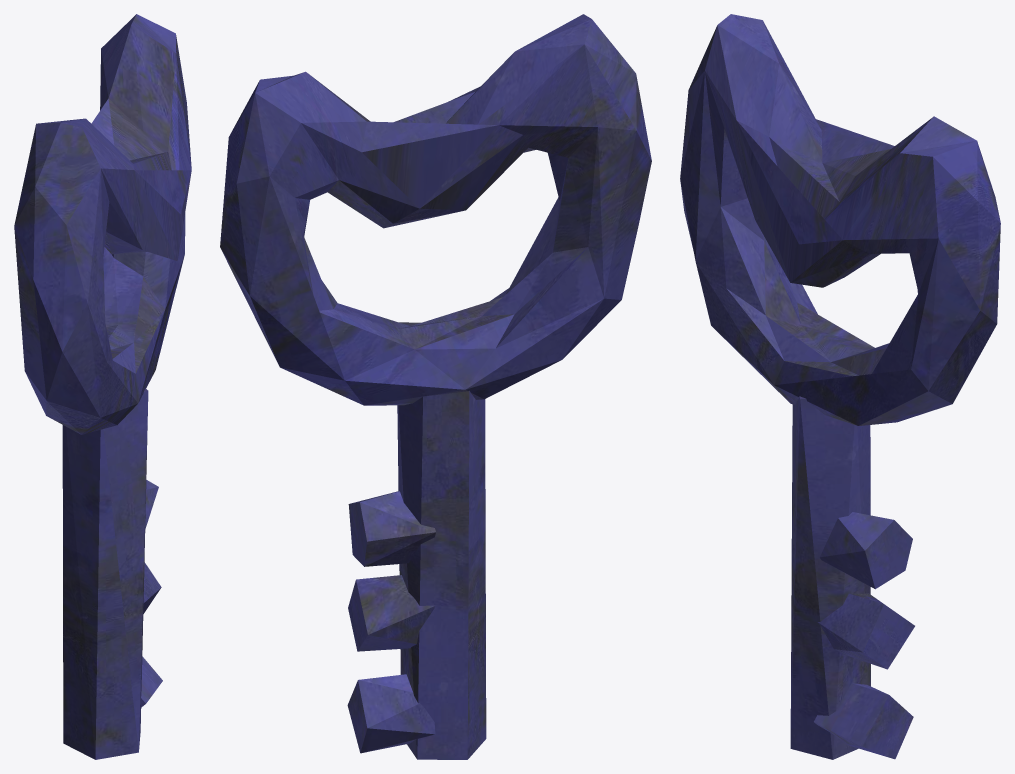
File: key2.glb
3 views of the same model, side by side, from view 1: azimuth 30°, elevation 25°; view 2: azimuth 150°, elevation 25°; view 3: azimuth 270°, elevation 25° (orthographic). The views are drawn at different scales.
Parts seen in each view (by area): view 1: Key; view 2: Key; view 3: Key.
Part boxes in pixels (box(x1,y1,x2,y2)): Key: box(14, 14, 191, 759); Key: box(220, 14, 651, 759); Key: box(680, 14, 1000, 759).
Size of the model in its own units: 0.2293 by 0.5406 by 0.2305.
Materials: 1 (1 with a texture image).
